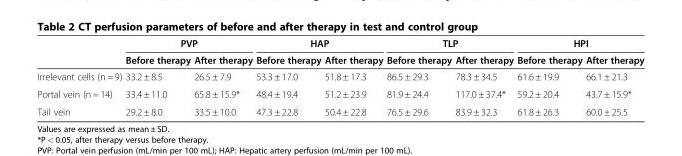table: (36, 37, 643, 117)
table column: (36, 37, 123, 117), (253, 37, 322, 117), (514, 37, 583, 117), (123, 37, 191, 117), (384, 37, 452, 117), (191, 37, 253, 117), (322, 37, 384, 117), (452, 37, 514, 117), (583, 37, 643, 117)
table column header: (36, 37, 643, 67)
table row: (36, 84, 643, 102), (36, 67, 643, 84), (36, 51, 643, 67), (36, 102, 643, 117), (36, 37, 643, 51)
table spanning cell: (253, 37, 384, 51), (123, 37, 253, 51), (384, 37, 514, 51), (514, 37, 643, 51)
